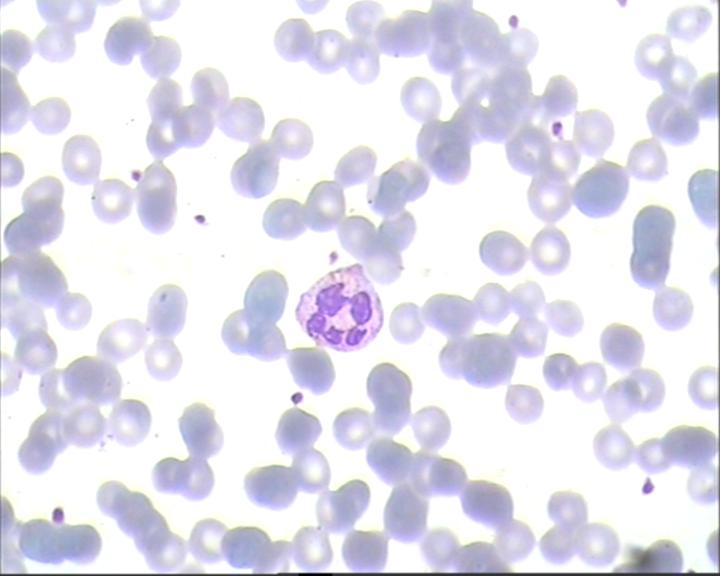neut: (290, 263, 385, 351)
